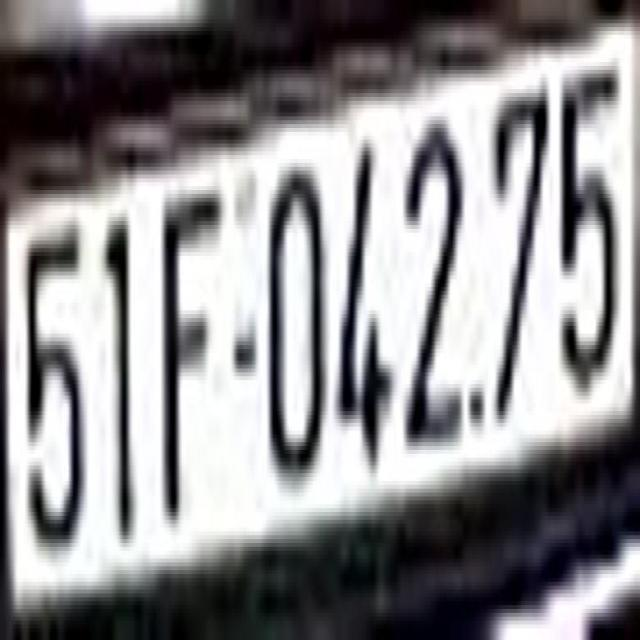0: (264, 167, 328, 492)
1: (102, 198, 140, 554)
2: (398, 128, 468, 458)
4: (334, 124, 392, 462)
5: (26, 224, 84, 566), (560, 58, 620, 384)
7: (488, 70, 548, 415)
F: (158, 183, 226, 532)
